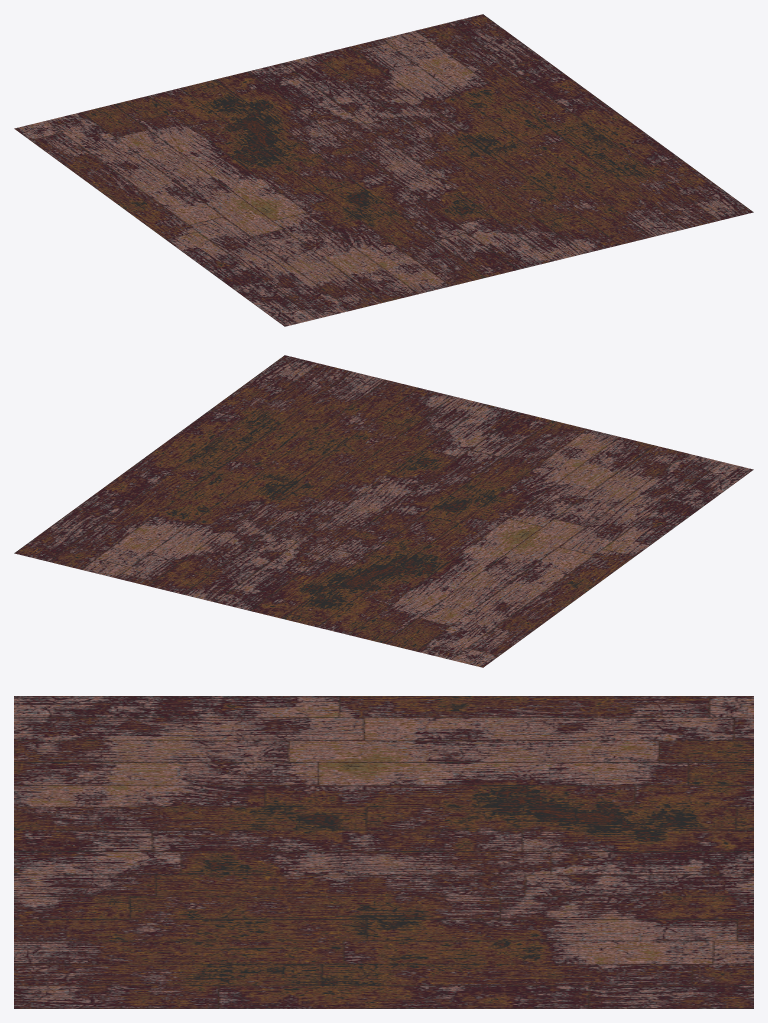
Rendered from Rough_Dark_Wooden_Floor.gltf.
3 renders of one model, top to bottom at view 1: azimuth 30°, elevation 25°; view 2: azimuth 150°, elevation 25°; view 3: azimuth 270°, elevation 25°, orthographic. The views are drawn at different scales.
Visible parts, largest first — view 1: Plane; view 2: Plane; view 3: Plane.
Boxes of the visible parts, x1=… form: Plane: x1=14, y1=14, x2=753, y2=326; Plane: x1=14, y1=355, x2=753, y2=667; Plane: x1=14, y1=696, x2=753, y2=1008.
Bounding box in the file's own units: 10 × 2.22e-15 × 10.
1 material, 1 textured.
